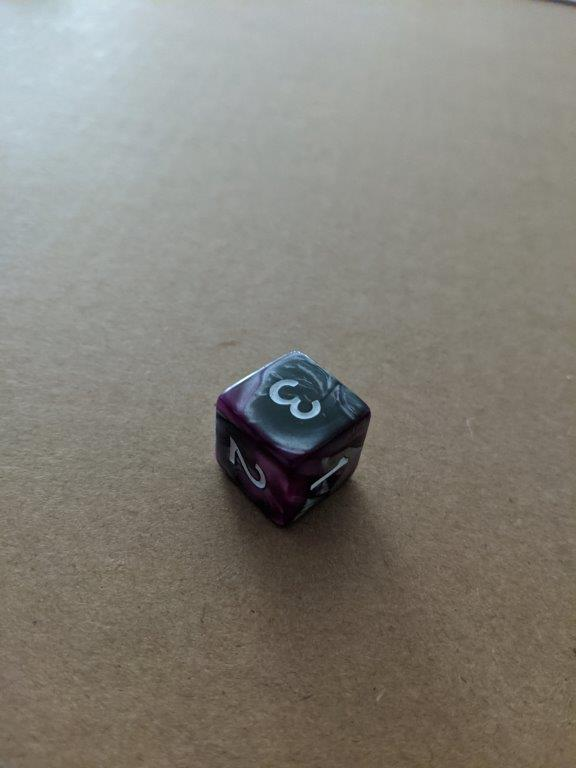d6-3: (215, 349, 374, 528)
